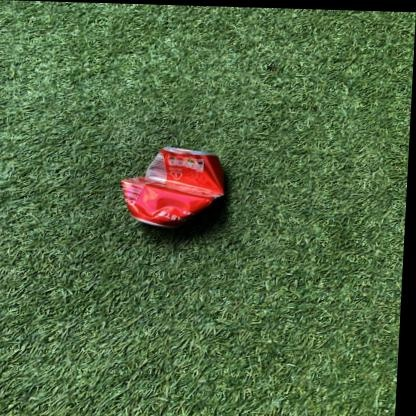trash: (121, 147, 223, 226)
